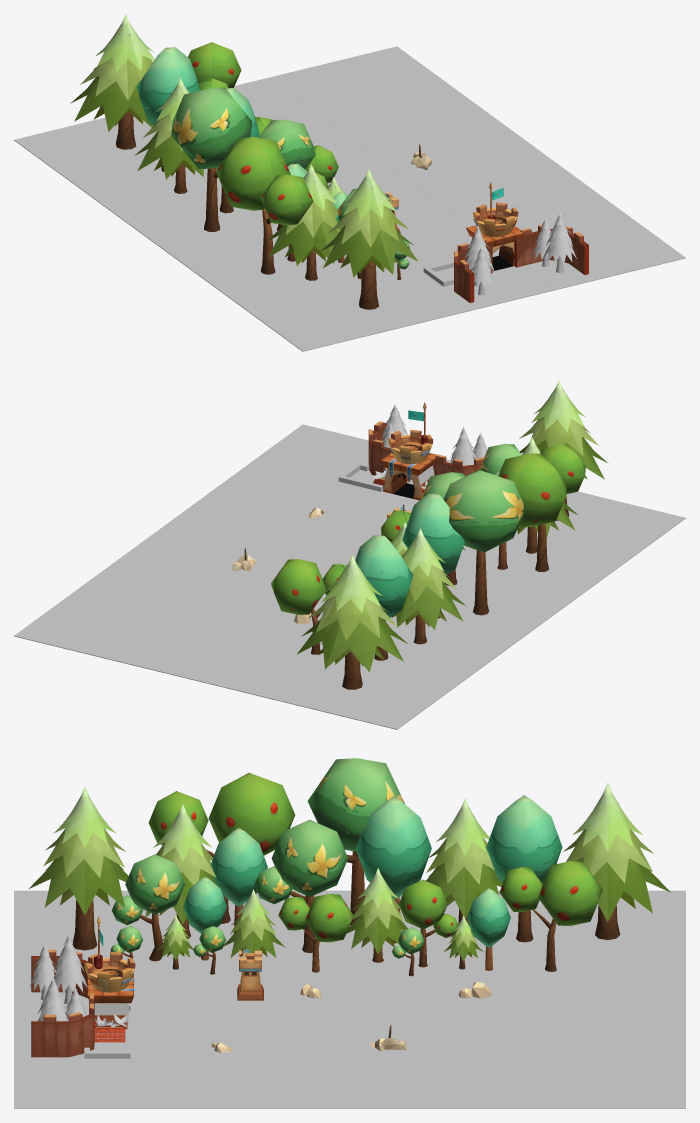
The model's file is Stage1All@Model.fbx.
The picture shows the model from 3 angles, top to bottom: view 1: azimuth 30°, elevation 25°; view 2: azimuth 150°, elevation 25°; view 3: azimuth 270°, elevation 25°; orthographic projection. The views are drawn at different scales.
Visible parts, largest first — view 1: Floor, Tree20, Tree17, Tree22, Tree5, Tree18, Tree7, Castle_Wall, Tree6, Castle, Tree4, Tree21 (+5 smaller); view 2: Floor, Tree5, Tree22, Tree20, Tree7, Tree17, Tree6, Tree4, Tree1, Castle, Castle_Wall, Tree18 (+4 smaller); view 3: Floor, Tree17, Tree5, Tree20, Tree22, Tree21, Tree4, Tree1, Tree6, Tree7, Tree16, Castle_Wall (+19 smaller).
Part boxes in pixels (left/top/right/bottom): Floor: left=14, top=46, right=685, bottom=351; Tree20: left=216, top=137, right=313, bottom=274; Tree17: left=320, top=169, right=418, bottom=309; Tree22: left=171, top=87, right=252, bottom=231; Tree5: left=70, top=14, right=154, bottom=149; Tree18: left=266, top=164, right=342, bottom=280; Tree7: left=134, top=78, right=204, bottom=193; Castle_Wall: left=454, top=225, right=588, bottom=302; Tree6: left=137, top=47, right=200, bottom=171; Castle: left=466, top=202, right=524, bottom=271; Tree4: left=188, top=42, right=241, bottom=90; Tree21: left=258, top=119, right=315, bottom=230; Floor: left=14, top=424, right=685, bottom=729; Tree5: left=297, top=554, right=407, bottom=689; Tree22: left=443, top=470, right=526, bottom=615; Tree20: left=498, top=444, right=585, bottom=571; Tree7: left=391, top=528, right=466, bottom=644; Tree17: left=519, top=380, right=608, bottom=520; Tree6: left=355, top=535, right=412, bottom=660; Tree4: left=271, top=559, right=346, bottom=654; Tree1: left=402, top=493, right=464, bottom=618; Castle: left=373, top=429, right=436, bottom=500; Castle_Wall: left=368, top=421, right=484, bottom=481; Tree18: left=517, top=437, right=578, bottom=553; Floor: left=14, top=890, right=685, bottom=1108; Tree17: left=29, top=787, right=128, bottom=950; Tree5: left=563, top=782, right=671, bottom=940; Tree20: left=148, top=772, right=295, bottom=923; Tree22: left=307, top=758, right=404, bottom=925; Tree21: left=254, top=820, right=348, bottom=952; Tree4: left=499, top=861, right=602, bottom=971; Tree1: left=355, top=796, right=431, bottom=943; Tree6: left=486, top=795, right=562, bottom=942; Tree7: left=426, top=798, right=502, bottom=931; Tree16: left=111, top=854, right=184, bottom=961; Castle_Wall: left=31, top=949, right=94, bottom=1057.
Bounding box in the file's own units: 2612 × 926 × 3411.
